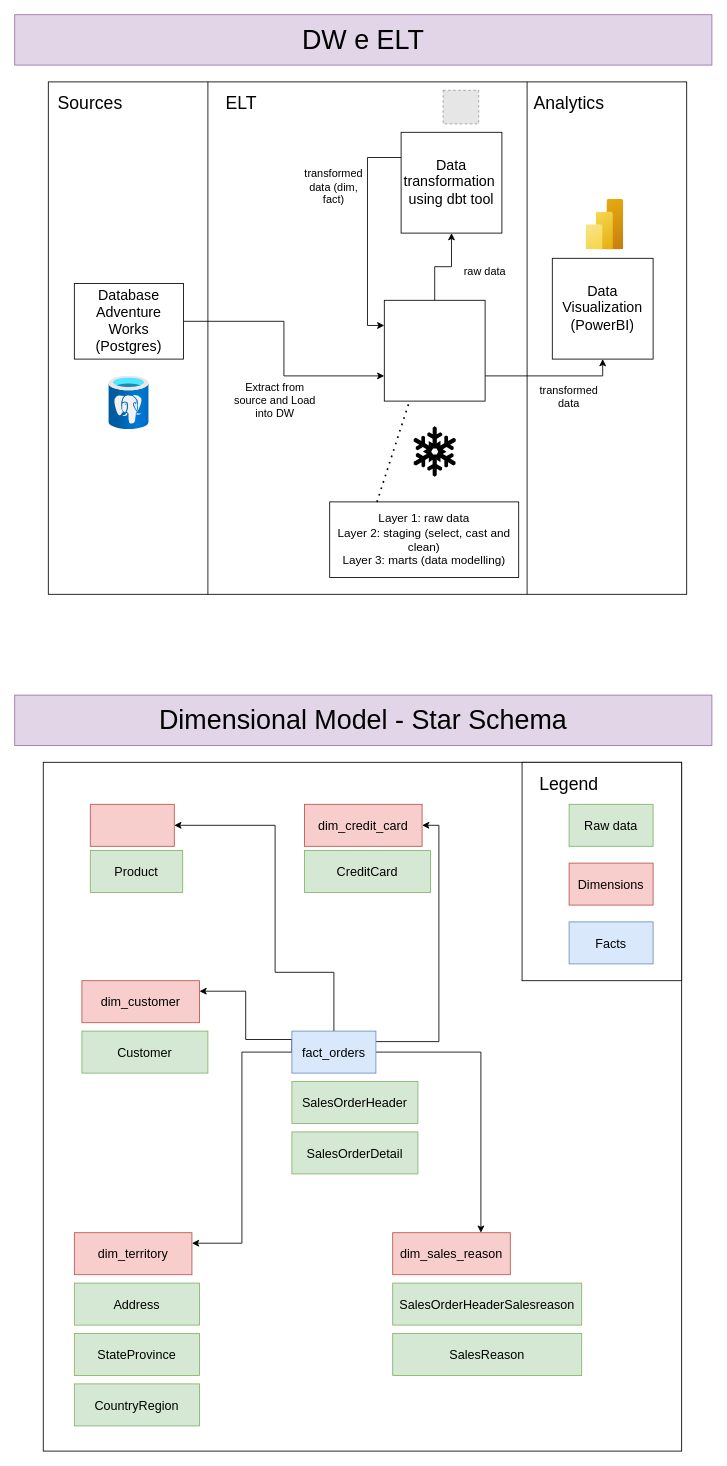
The diagram is 727 pixels wide and 1466 high, and some of its shapes have lost their labels. Grey dashed boxes stand in for pictures. The shapes that lost their labels are listed below. From the top down, each one's centre as x and y in pixels, then its label:
At (434,350): "Load data into DW (Snowflake)".
At (131,824): "dim_product".
